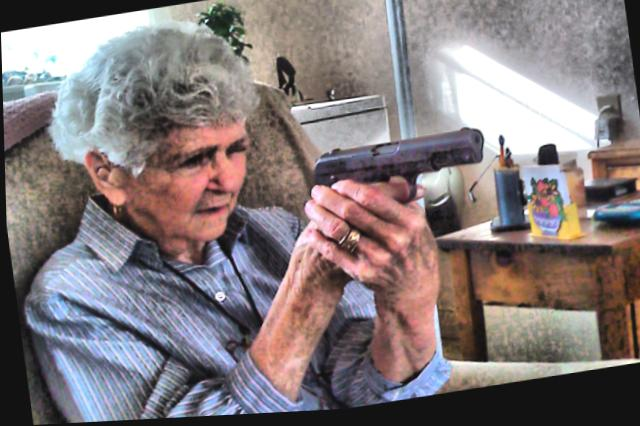pistol: (294, 128, 494, 249)
